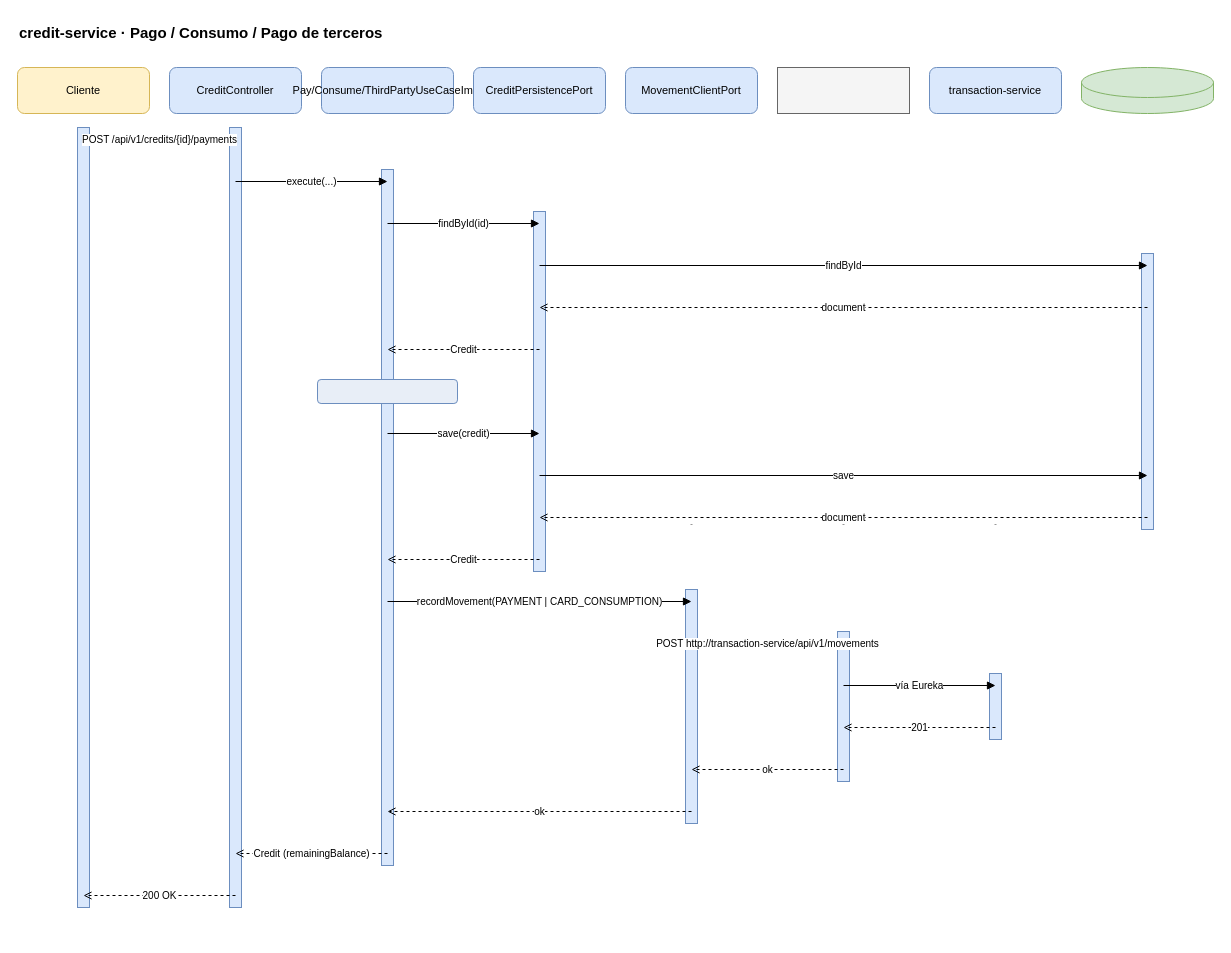
Some shapes in this 1231 by 953 pixel diagram are drawn without their labels. The shapes that lost their labels are listed below. From the top down, each one's centre as x and y in pixels, then its label:
At pixel 843 90: "MovementWebClientAdapter".
At pixel 1147 90: "MongoDB".
At pixel 387 391: "makePayment / consume (solo CREDIT_CARD) / thirdPartyPayment".
